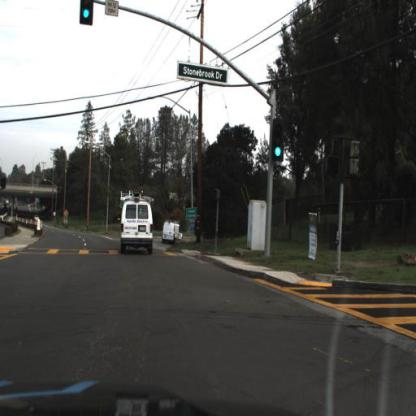car: (118, 196, 159, 253), (163, 218, 184, 249)
trafficLight-Green: (269, 130, 287, 166), (272, 115, 284, 162)
